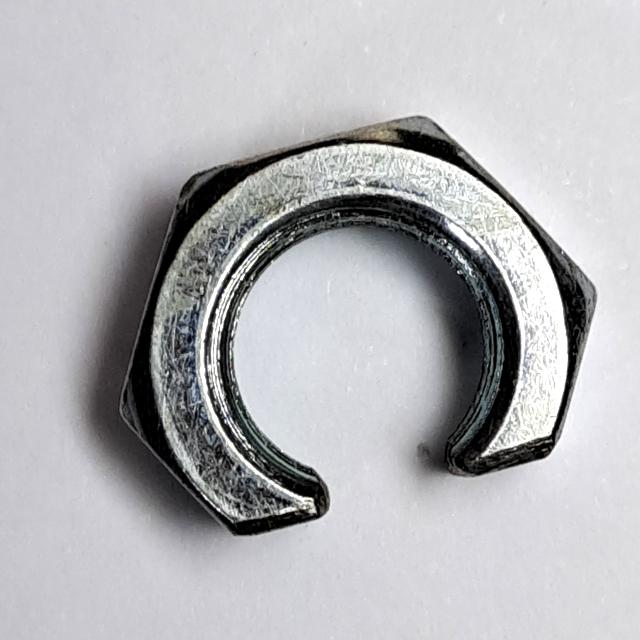Fracture: (98, 100, 604, 548)
